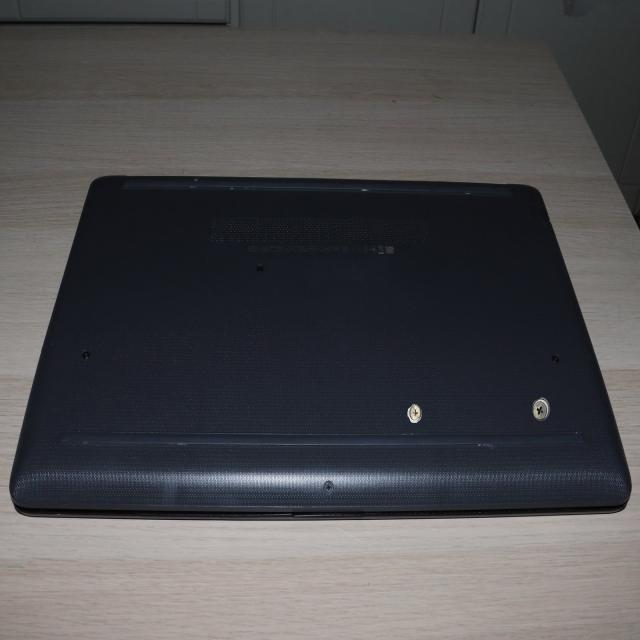lock: (532, 397, 550, 420), (407, 404, 422, 423)
